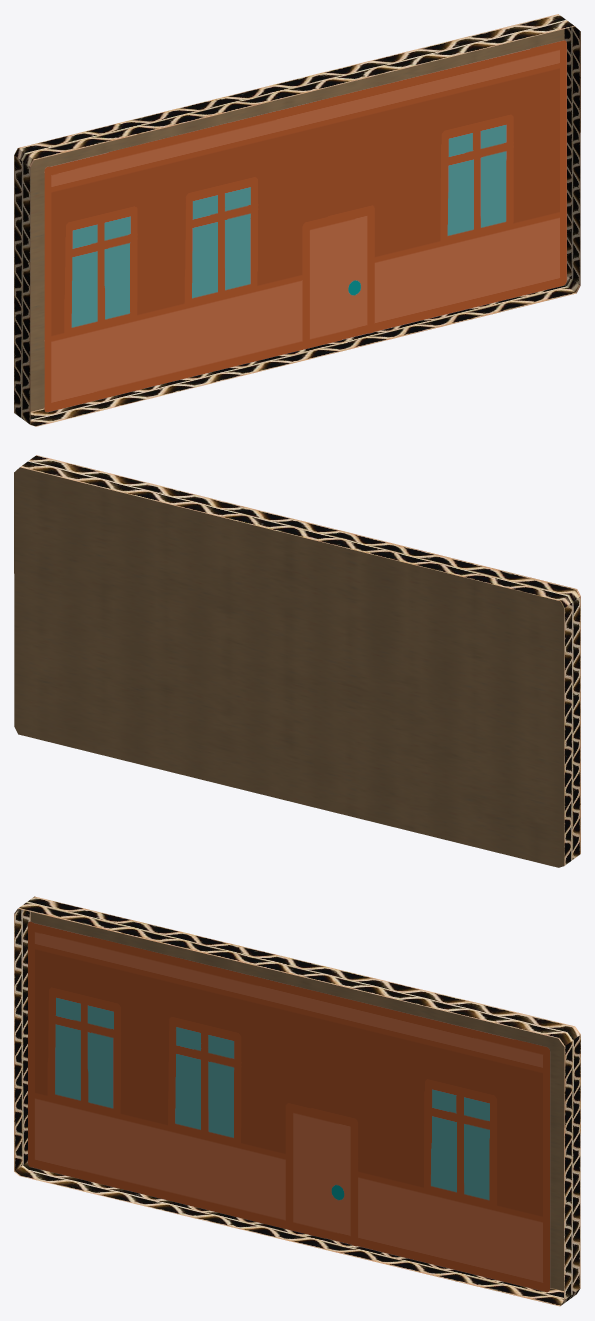
The model's file is House_Base02.fbx.
3 views of the same model, one above another, from view 1: azimuth 30°, elevation 25°; view 2: azimuth 150°, elevation 25°; view 3: azimuth 330°, elevation 25° (orthographic).
Visible parts, largest first — view 1: Plane003; view 2: Plane003; view 3: Plane003.
Boxes of the visible parts, x1,y1,x2,y2 form: Plane003: (14, 14, 580, 426); Plane003: (14, 455, 580, 867); Plane003: (14, 896, 580, 1306).
Size of the model in its own units: 20.35 by 9.51 by 1.07.
Materials: 3 (3 with a texture image).
